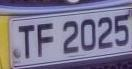0: (79, 14, 98, 56)
2: (61, 16, 82, 58), (97, 14, 114, 53)
5: (114, 11, 131, 51)
F: (34, 21, 56, 62)
T: (15, 21, 37, 63)
